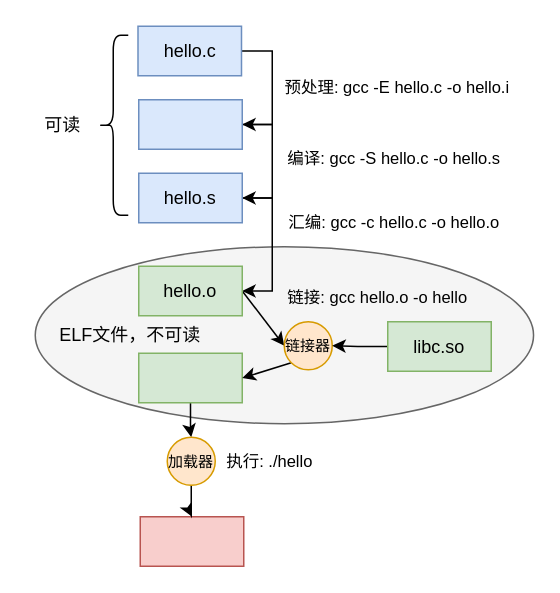
The diagram is 560 pixels wide and 593 high, and some of its shapes have lost their labels. The box of each missing label's shape, as (x1, y1, x2, y2) in pixels:
hello: (137, 352, 242, 403)
hello.i: (137, 98, 242, 149)
process: (139, 515, 244, 566)
